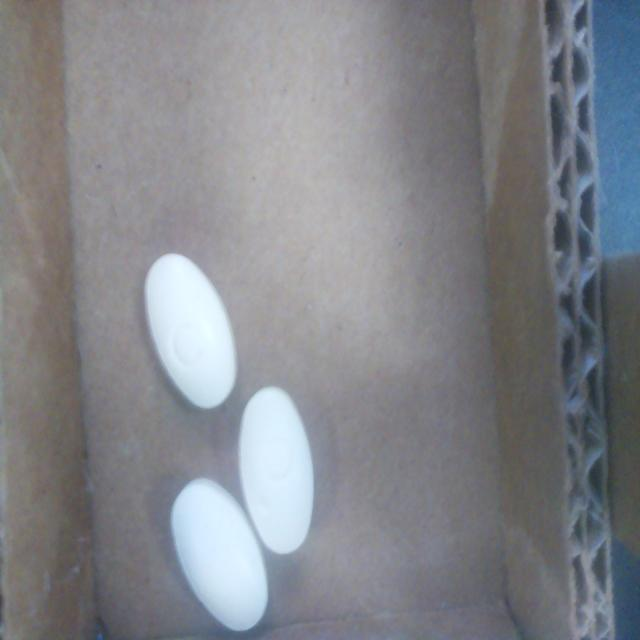pill: (171, 479, 267, 631), (144, 253, 237, 409), (239, 387, 314, 554)
